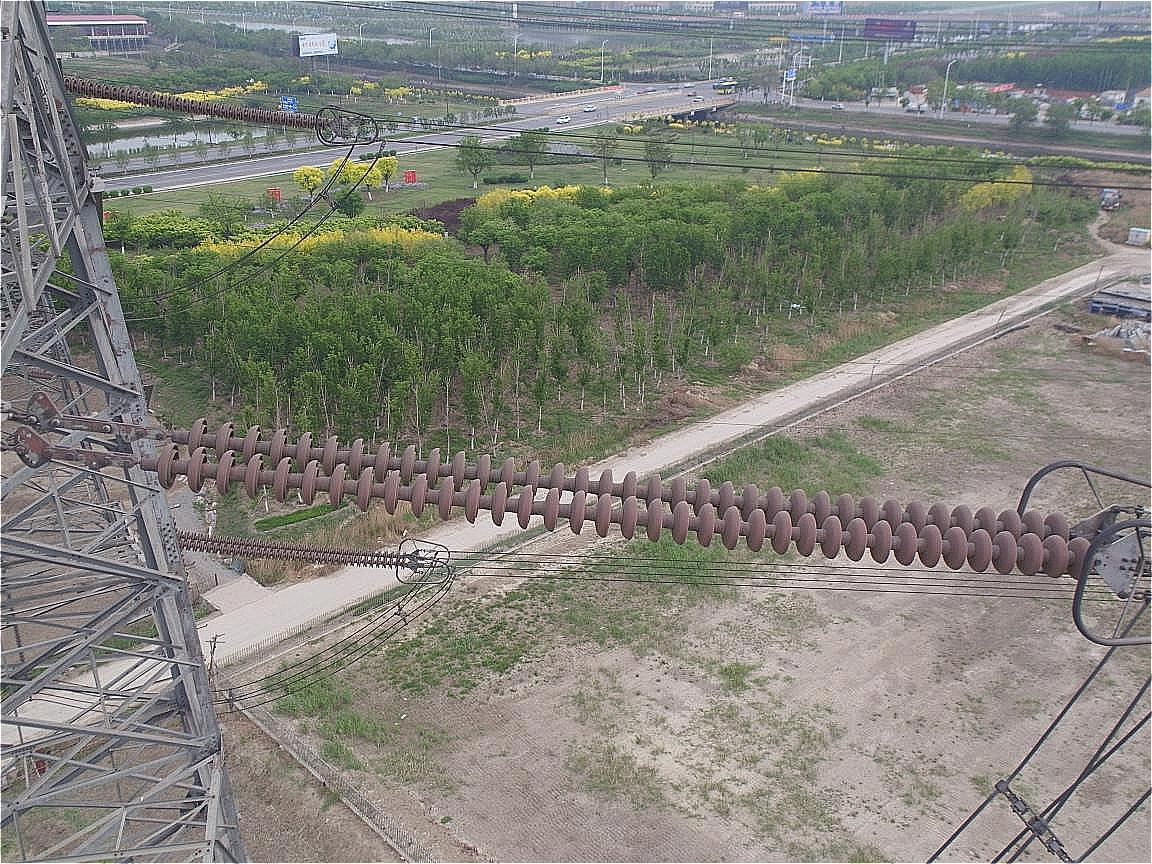insultor1: (129, 403, 1103, 601)
insultor2: (56, 69, 334, 151), (172, 522, 415, 577)
